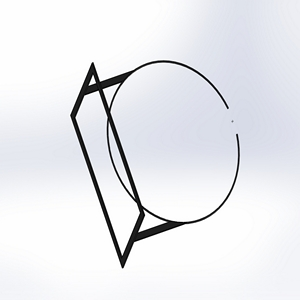circle: (68, 57, 242, 268)
